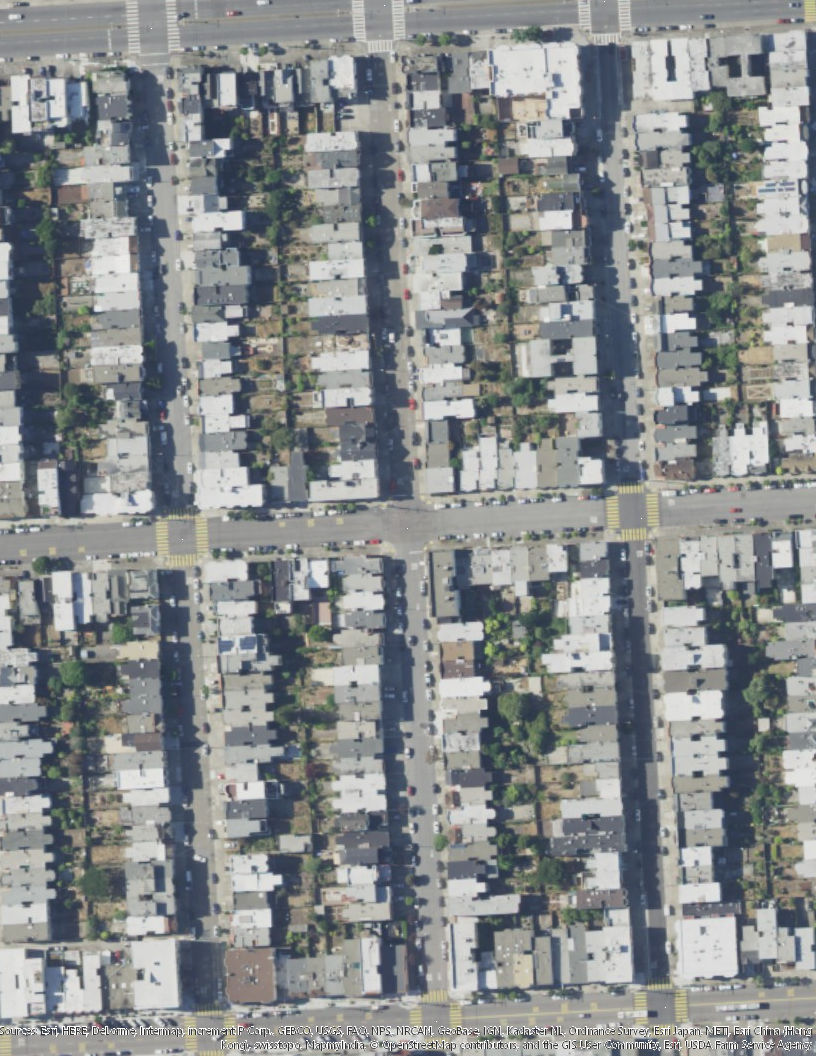zebracross: (161, 1, 184, 51), (123, 1, 142, 55), (350, 1, 368, 42), (393, 1, 409, 39), (632, 991, 648, 1026), (183, 1015, 199, 1050), (221, 1014, 238, 1045), (154, 519, 169, 554), (605, 496, 621, 528), (674, 988, 689, 1022), (195, 518, 209, 554), (578, 1, 593, 33), (646, 495, 661, 527), (418, 990, 451, 1004), (617, 1, 632, 31), (365, 38, 394, 53), (616, 480, 647, 494), (166, 506, 197, 520), (645, 976, 672, 992), (196, 1003, 223, 1017), (168, 554, 196, 567), (594, 30, 621, 43), (1, 1030, 14, 1056), (449, 1004, 462, 1028), (622, 528, 647, 540), (805, 1, 816, 24), (409, 1007, 422, 1026)
